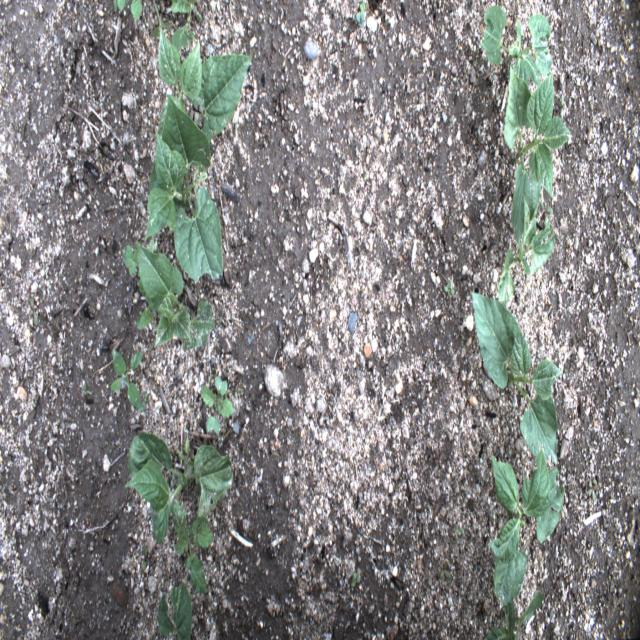crop: (143, 94, 225, 286), (470, 294, 563, 458), (123, 427, 235, 545), (502, 61, 572, 247), (486, 451, 565, 606), (157, 26, 253, 142), (136, 241, 216, 353), (496, 197, 559, 304), (478, 1, 553, 86), (484, 587, 545, 639), (156, 579, 193, 639), (170, 0, 198, 18)
weed: (172, 509, 213, 597), (199, 370, 244, 444), (109, 339, 149, 414), (151, 0, 196, 53), (112, 0, 144, 24), (120, 241, 137, 277), (433, 558, 452, 582), (135, 305, 155, 327), (539, 196, 554, 225), (587, 479, 602, 502), (29, 296, 40, 325), (443, 279, 456, 299), (140, 544, 148, 574), (350, 570, 360, 588), (356, 14, 366, 30), (81, 382, 92, 396), (454, 524, 464, 536), (561, 241, 572, 250), (358, 0, 367, 11), (449, 116, 454, 123)
